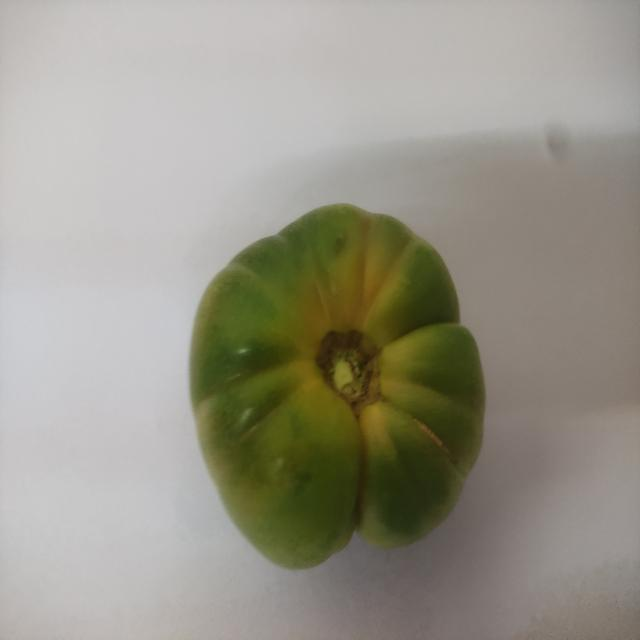yesil: (174, 179, 518, 584)
